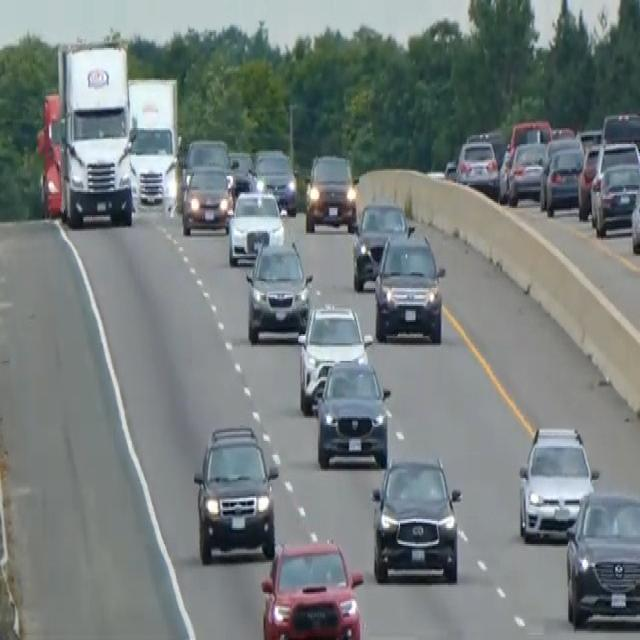car: (370, 453, 462, 583), (259, 537, 364, 638), (564, 489, 639, 629), (517, 423, 598, 542), (315, 356, 391, 468), (296, 302, 372, 414), (373, 228, 445, 343), (244, 237, 313, 343), (351, 199, 410, 290), (226, 187, 285, 265), (304, 151, 357, 233), (589, 158, 639, 236), (181, 162, 233, 234), (179, 135, 233, 201), (539, 141, 584, 215), (252, 146, 297, 215), (505, 138, 547, 204), (455, 135, 499, 196), (600, 108, 639, 166), (577, 140, 602, 220), (226, 148, 255, 194), (630, 178, 639, 254)
jeep: (192, 422, 280, 564)
lorry: (44, 36, 138, 228)
